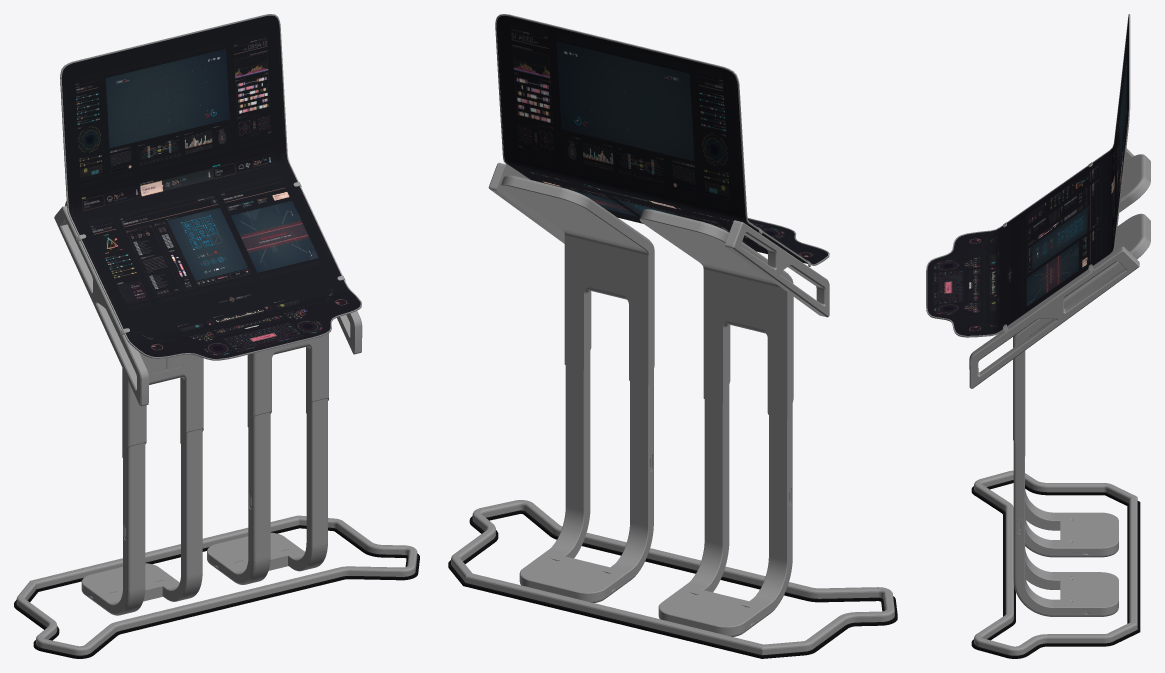
The model's file is terminal.FBX.
3 views of the same model, side by side, from view 1: azimuth 30°, elevation 25°; view 2: azimuth 150°, elevation 25°; view 3: azimuth 270°, elevation 25° (orthographic). The views are drawn at different scales.
Parts seen in each view (by area): view 1: terminal_Screen, Terminal_nogi, terminal_leg003, terminal_leg005, terminal_001 (×2), terminal_leg002, terminal_leg004, terminal_004; view 2: terminal_Screen001, terminal_leg004, terminal_leg003, terminal_leg005, Terminal_nogi, terminal_leg002, terminal_001 (×2), terminal_004, terminal_Screen; view 3: terminal_Screen, Terminal_nogi, terminal_leg005, terminal_001, terminal_leg003, terminal_leg004, terminal_004, terminal_leg002.
Part boxes in pixels (x1,y1,x2,y2): terminal_Screen: (61,15,360,359); Terminal_nogi: (14,515,419,658); terminal_leg003: (81,429,202,615); terminal_leg005: (207,398,327,584); terminal_001 (×2): (54,205,362,406); terminal_leg002: (65,201,203,457); terminal_leg004: (247,333,328,426); terminal_004: (60,14,361,360); terminal_Screen001: (496,16,807,263); terminal_leg004: (501,175,654,384); terminal_leg003: (658,385,792,636); terminal_leg005: (519,352,653,602); Terminal_nogi: (448,500,897,658); terminal_leg002: (639,209,793,418); terminal_001 (×2): (488,162,829,317); terminal_004: (495,14,829,265); terminal_Screen: (748,219,827,264); terminal_Screen: (926,17,1128,335); Terminal_nogi: (971,470,1140,658); terminal_leg005: (1013,441,1118,616); terminal_001: (969,246,1139,388); terminal_leg003: (1025,489,1118,557); terminal_leg004: (1013,213,1150,455); terminal_004: (926,14,1130,337); terminal_leg002: (1119,154,1150,212).
Bounding box in the file's own units: 830 × 1083 × 434.
